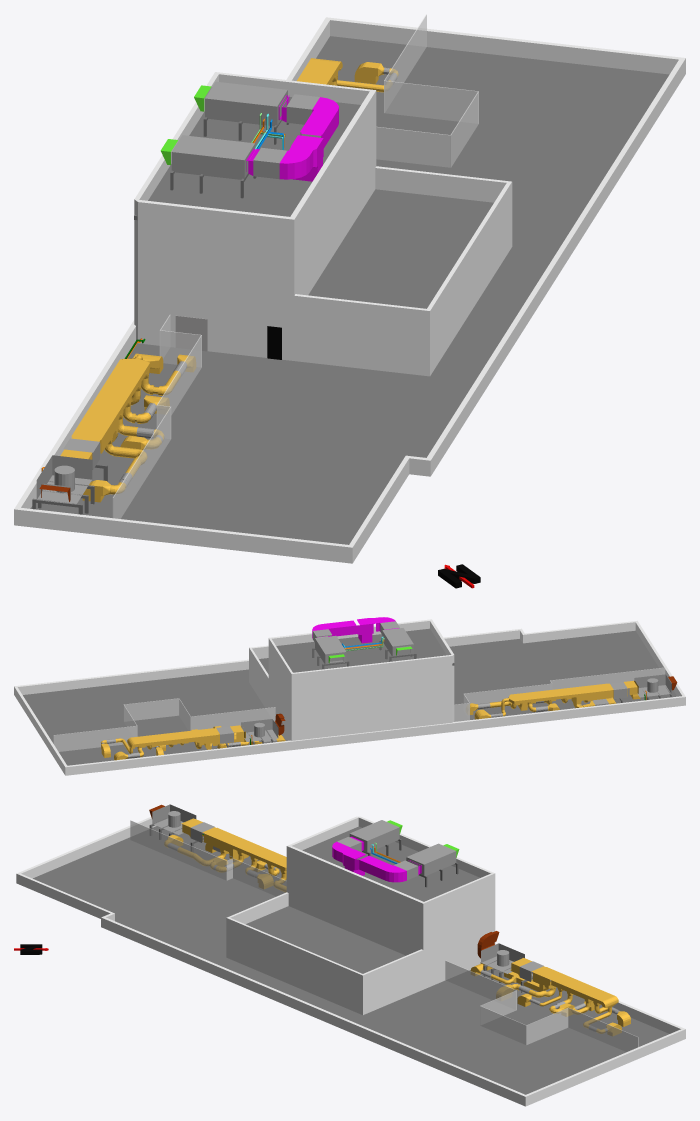
Rendered from 200 water Roof Only.opt.glb.
3 renders of one model, top to bottom at view 1: azimuth 30°, elevation 25°; view 2: azimuth 150°, elevation 25°; view 3: azimuth 270°, elevation 25°, orthographic. The views are drawn at different scales.
Parts seen in each view (by area): view 1: empty_2, empty_8; view 2: empty_2, empty_8; view 3: empty_2, empty_8.
Part boxes in pixels (box(x1,y1,x2,y2)): empty_2: box(14, 17, 685, 588); empty_8: box(112, 14, 478, 518); empty_2: box(14, 617, 685, 775); empty_8: box(53, 667, 665, 751); empty_2: box(14, 804, 685, 1106); empty_8: box(130, 820, 638, 1051).
Bounding box in the file's own units: 62.64 × 13.38 × 61.98.
2 materials, 2 textured.
